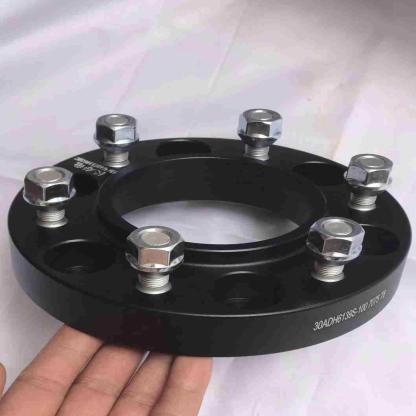FOD: (5, 128, 412, 360)
